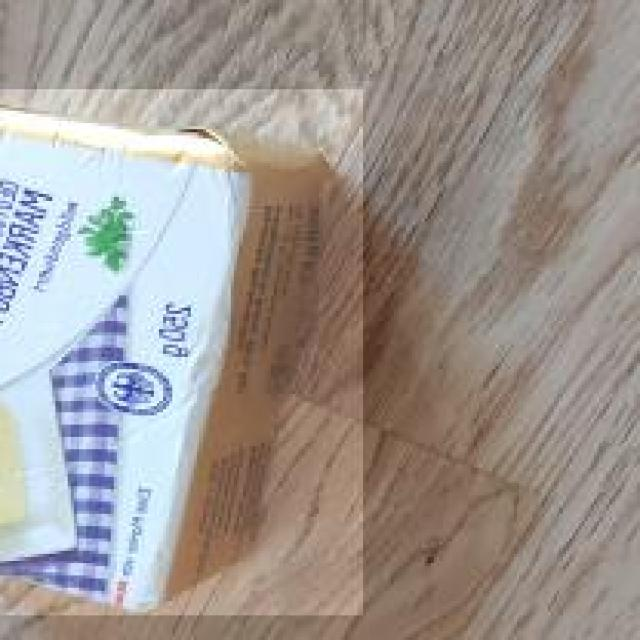butter: (0, 87, 366, 616)
